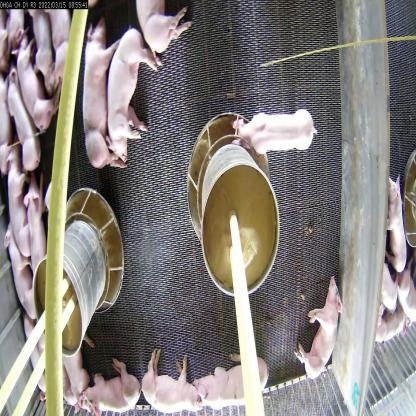Pig: (104, 20, 160, 165), (239, 90, 319, 165), (81, 12, 115, 180), (192, 352, 273, 415), (14, 34, 64, 133), (143, 343, 200, 416), (299, 284, 339, 380), (133, 0, 192, 62), (76, 359, 139, 415), (5, 138, 32, 260), (5, 67, 36, 168), (5, 226, 34, 326), (24, 174, 50, 274)
